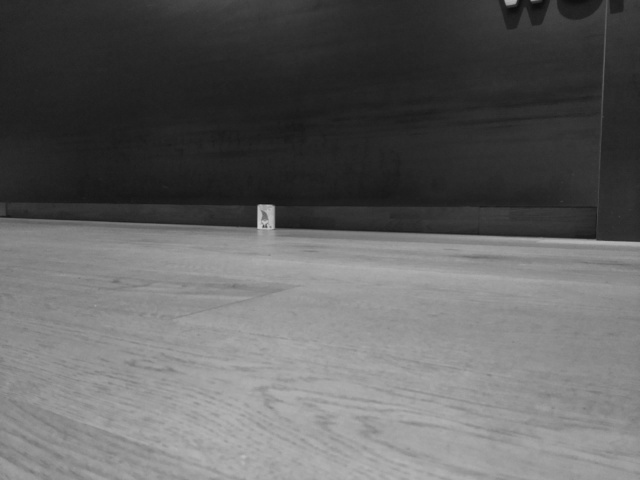gnome: (258, 210, 273, 229)
